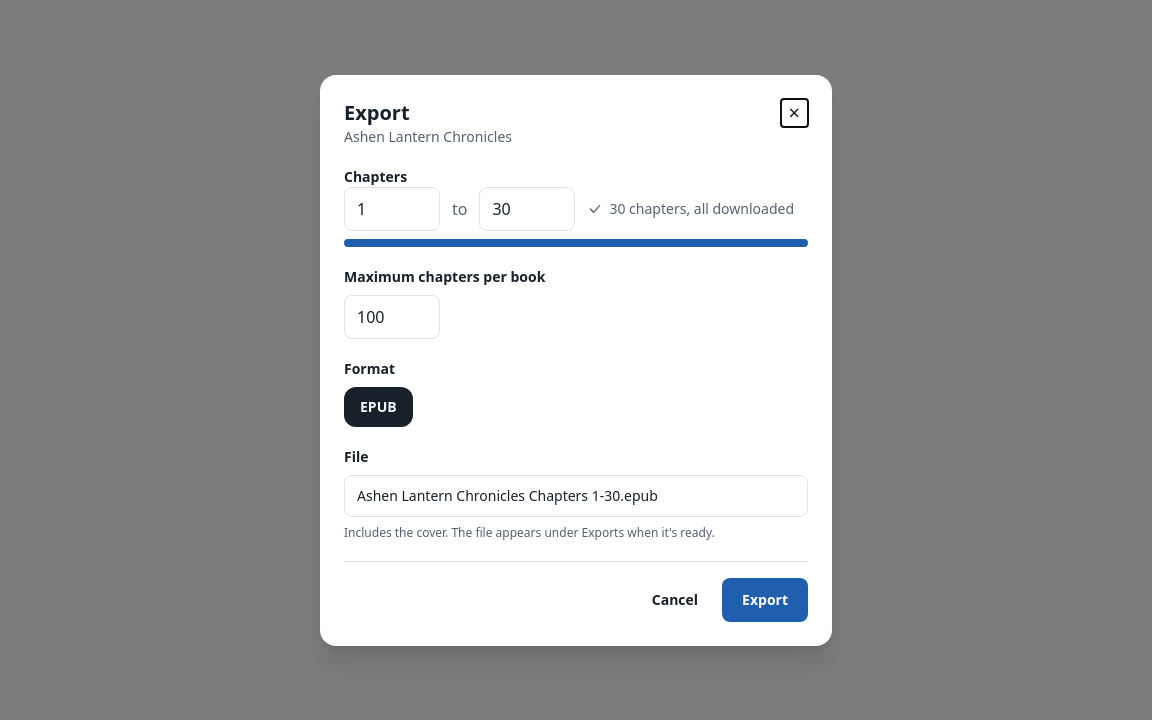
Test case: ExportDialog › on open › updates the file name when the range changes
Clear the number field named "To" at x=528, y=208, box [480,186,576,230]
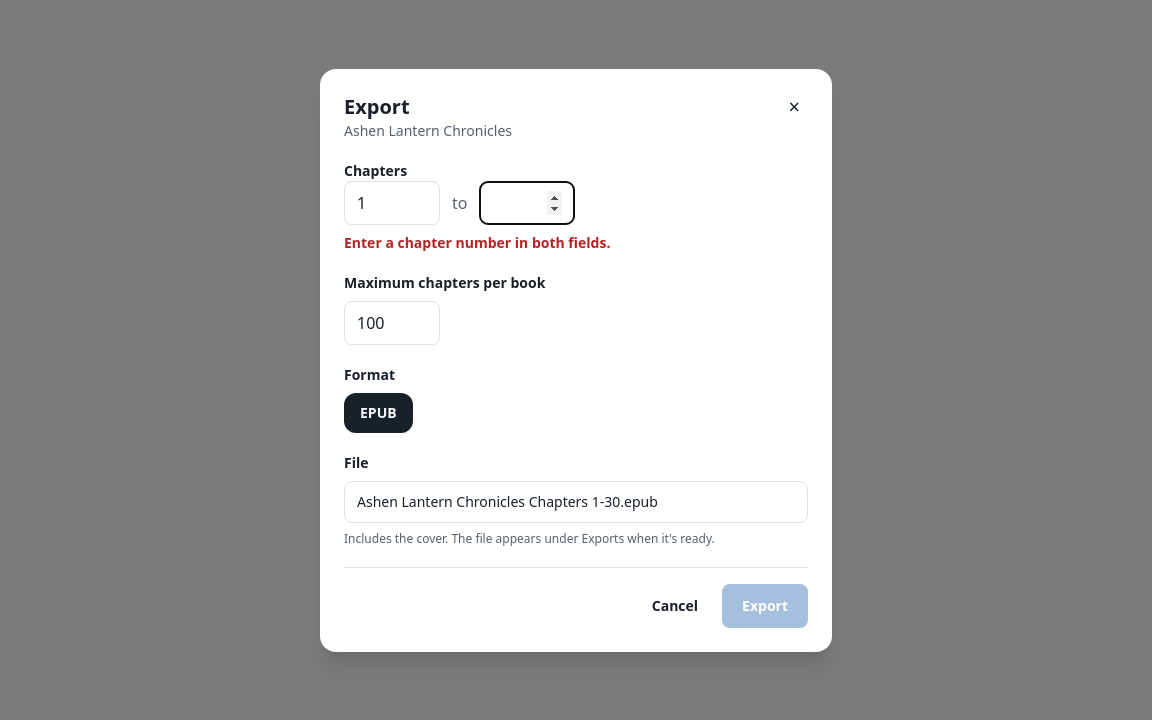
Type "12" into the number field named "To" at x=528, y=202, box [480,180,576,224]
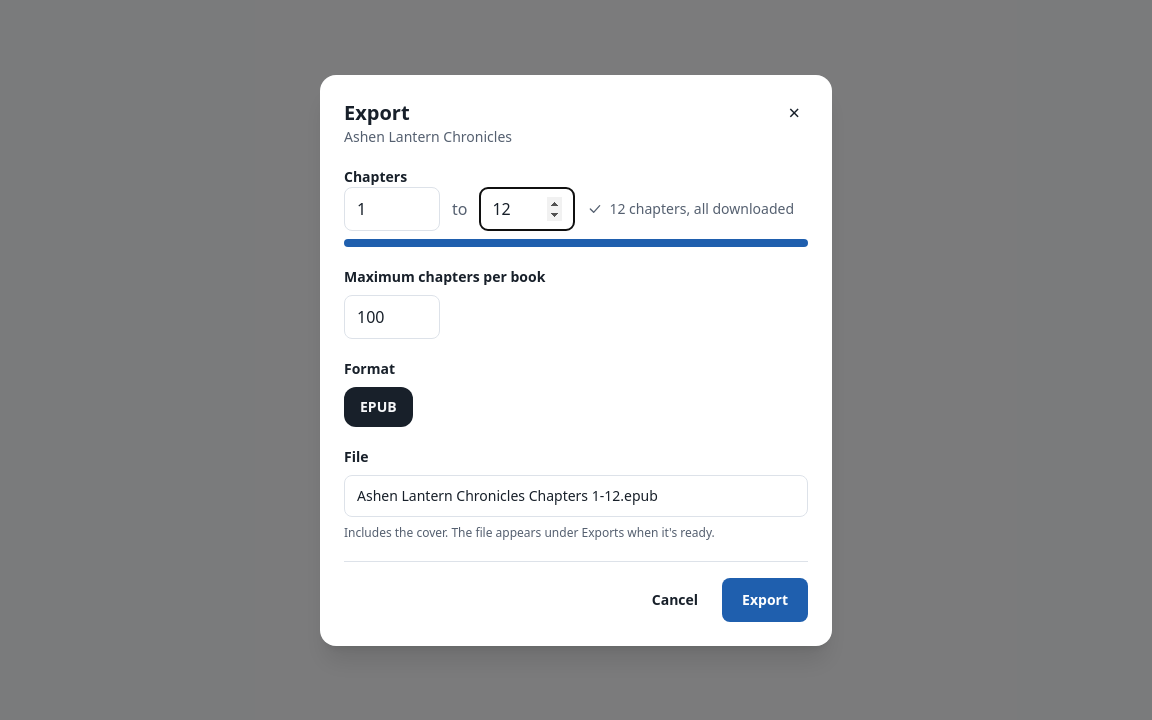
Result: the text "Ashen Lantern Chronicles Chapters 1-12.epub" is shown at [344,474,808,516]
